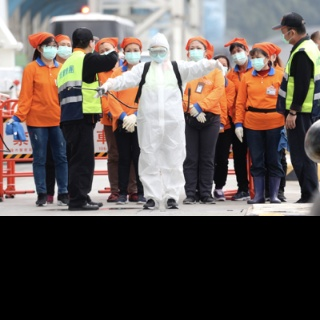with_mask: (41, 42, 58, 60), (124, 48, 141, 66), (151, 47, 168, 64), (188, 45, 205, 62), (57, 42, 73, 60), (231, 48, 247, 66), (250, 54, 266, 72), (280, 28, 291, 47), (89, 40, 96, 54)
